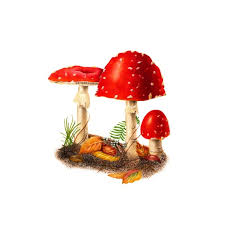Amanita muscaria: (95, 43, 166, 152), (42, 61, 101, 141), (139, 108, 179, 163)
